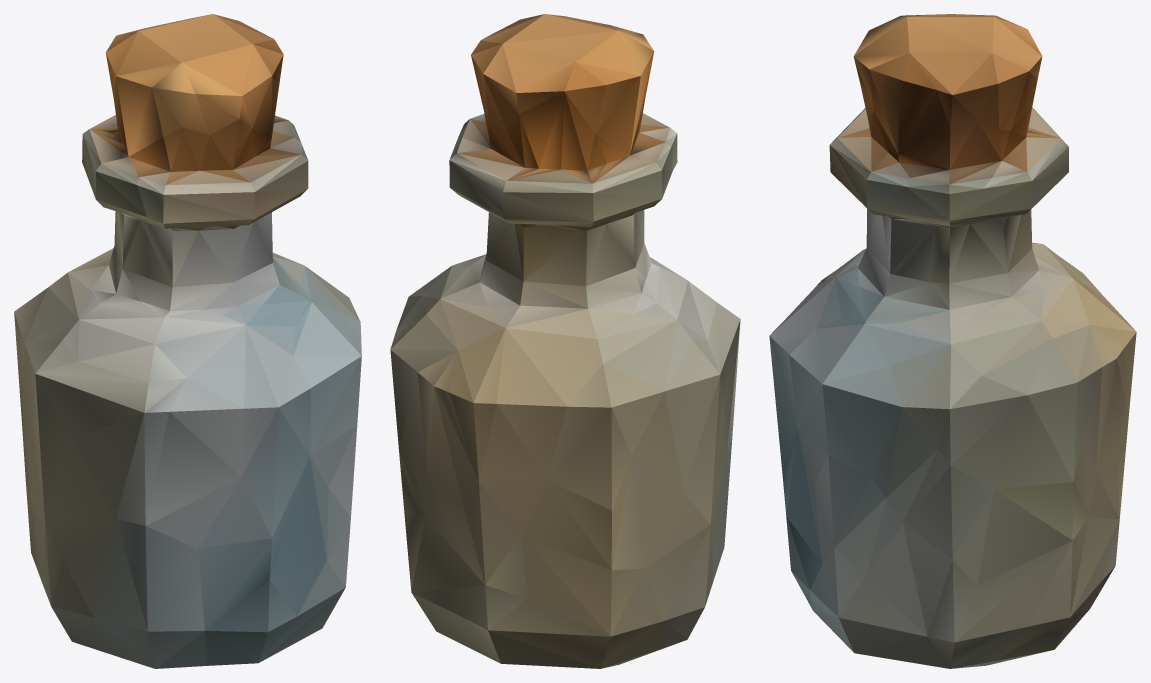
File: building-ruins-bottleWater.glb
3 renders of one model, left to right at view 1: azimuth 30°, elevation 25°; view 2: azimuth 150°, elevation 25°; view 3: azimuth 270°, elevation 25°, orthographic.
Visible parts, largest first — view 1: 0_ruins-bottleWater; view 2: 0_ruins-bottleWater; view 3: 0_ruins-bottleWater.
Part boxes in pixels (x1,y1,x2,y2): 0_ruins-bottleWater: (14, 14, 361, 668); 0_ruins-bottleWater: (390, 14, 740, 668); 0_ruins-bottleWater: (769, 14, 1136, 668).
Size of the model in its own units: 0.1369 by 0.25 by 0.1379.
